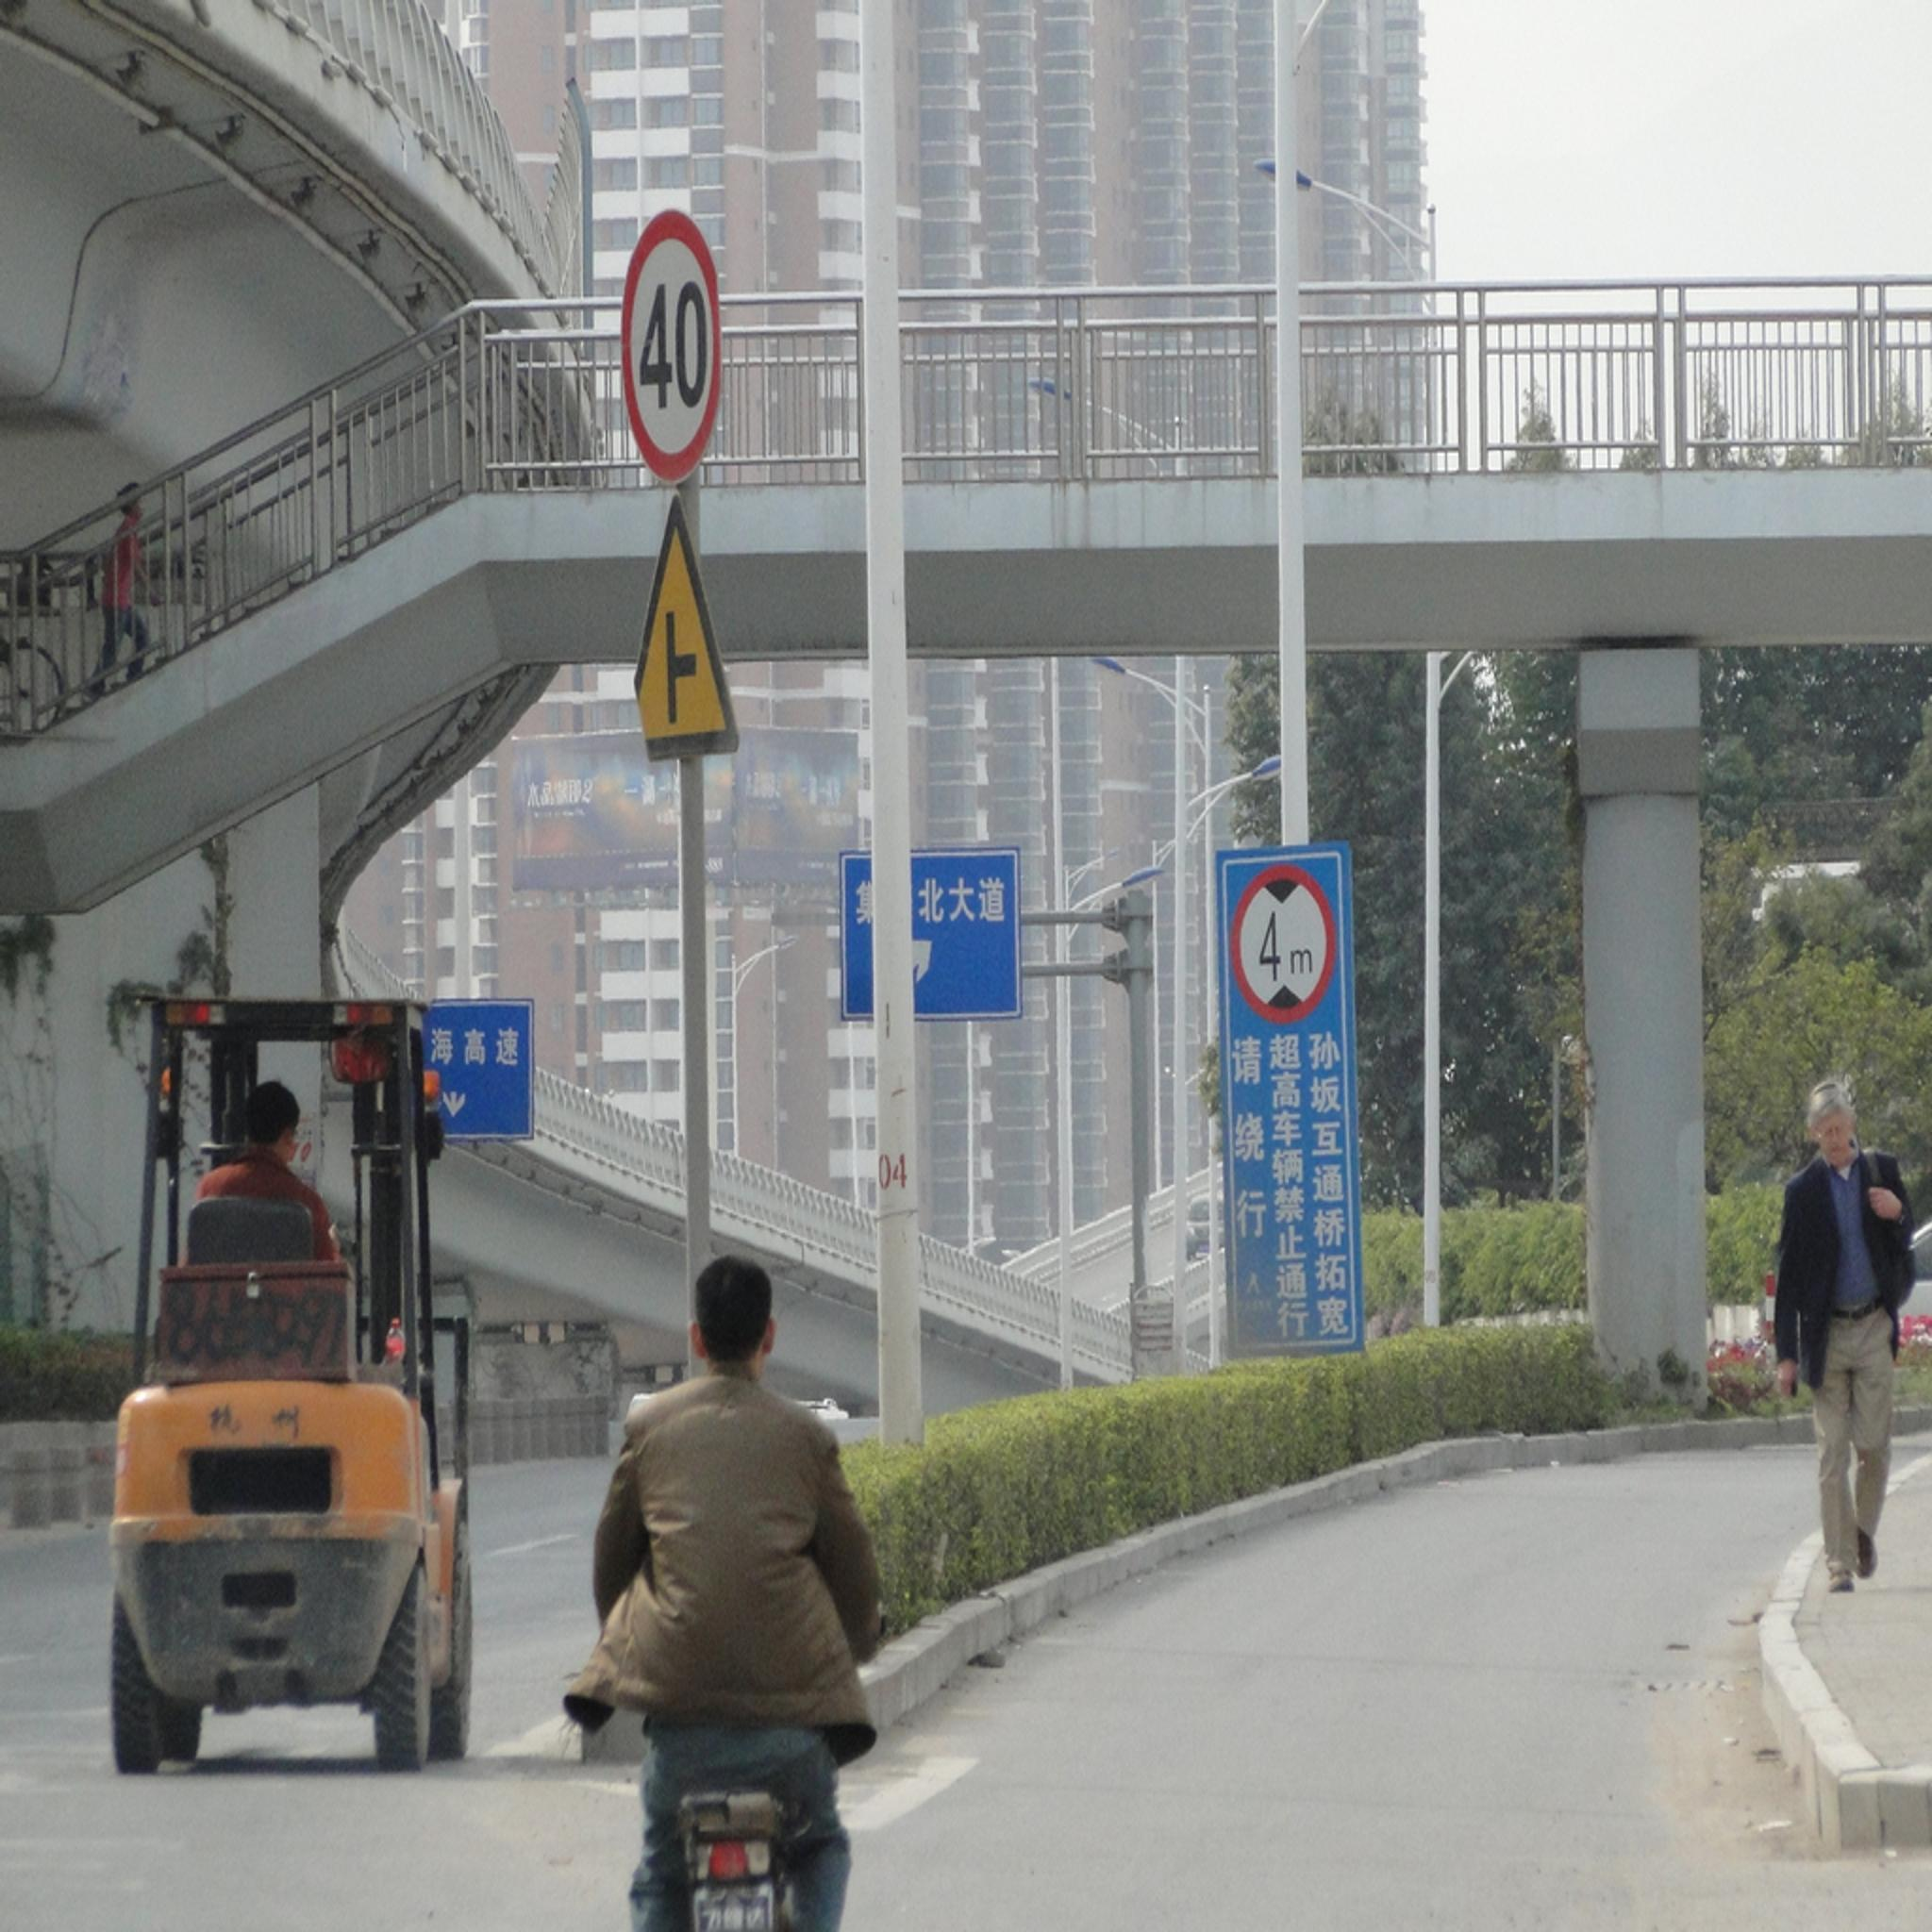ph4: (1235, 856, 1329, 1030)
pl40: (619, 205, 732, 492)
